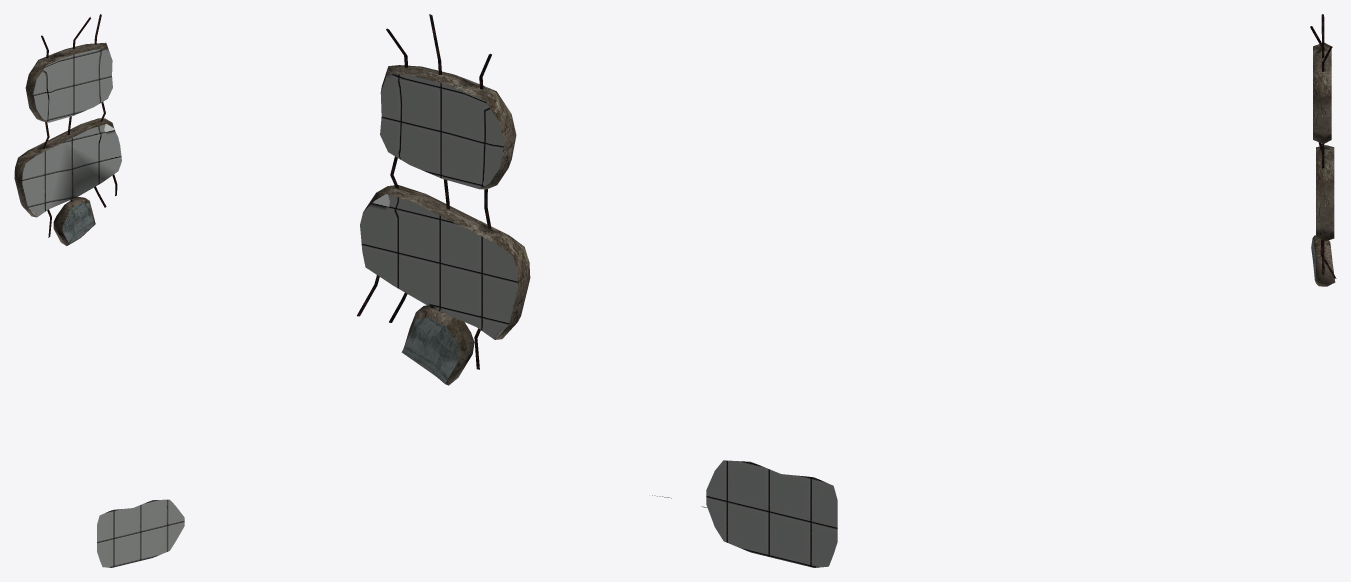
Rendered from gully_bridge_debris_lg03.glb.
3 views of the same model, side by side, from view 1: azimuth 30°, elevation 25°; view 2: azimuth 150°, elevation 25°; view 3: azimuth 270°, elevation 25° (orthographic). The views are drawn at different scales.
Size of the model in its own units: 322 by 465 by 344.
Materials: 4 (4 with a texture image).
